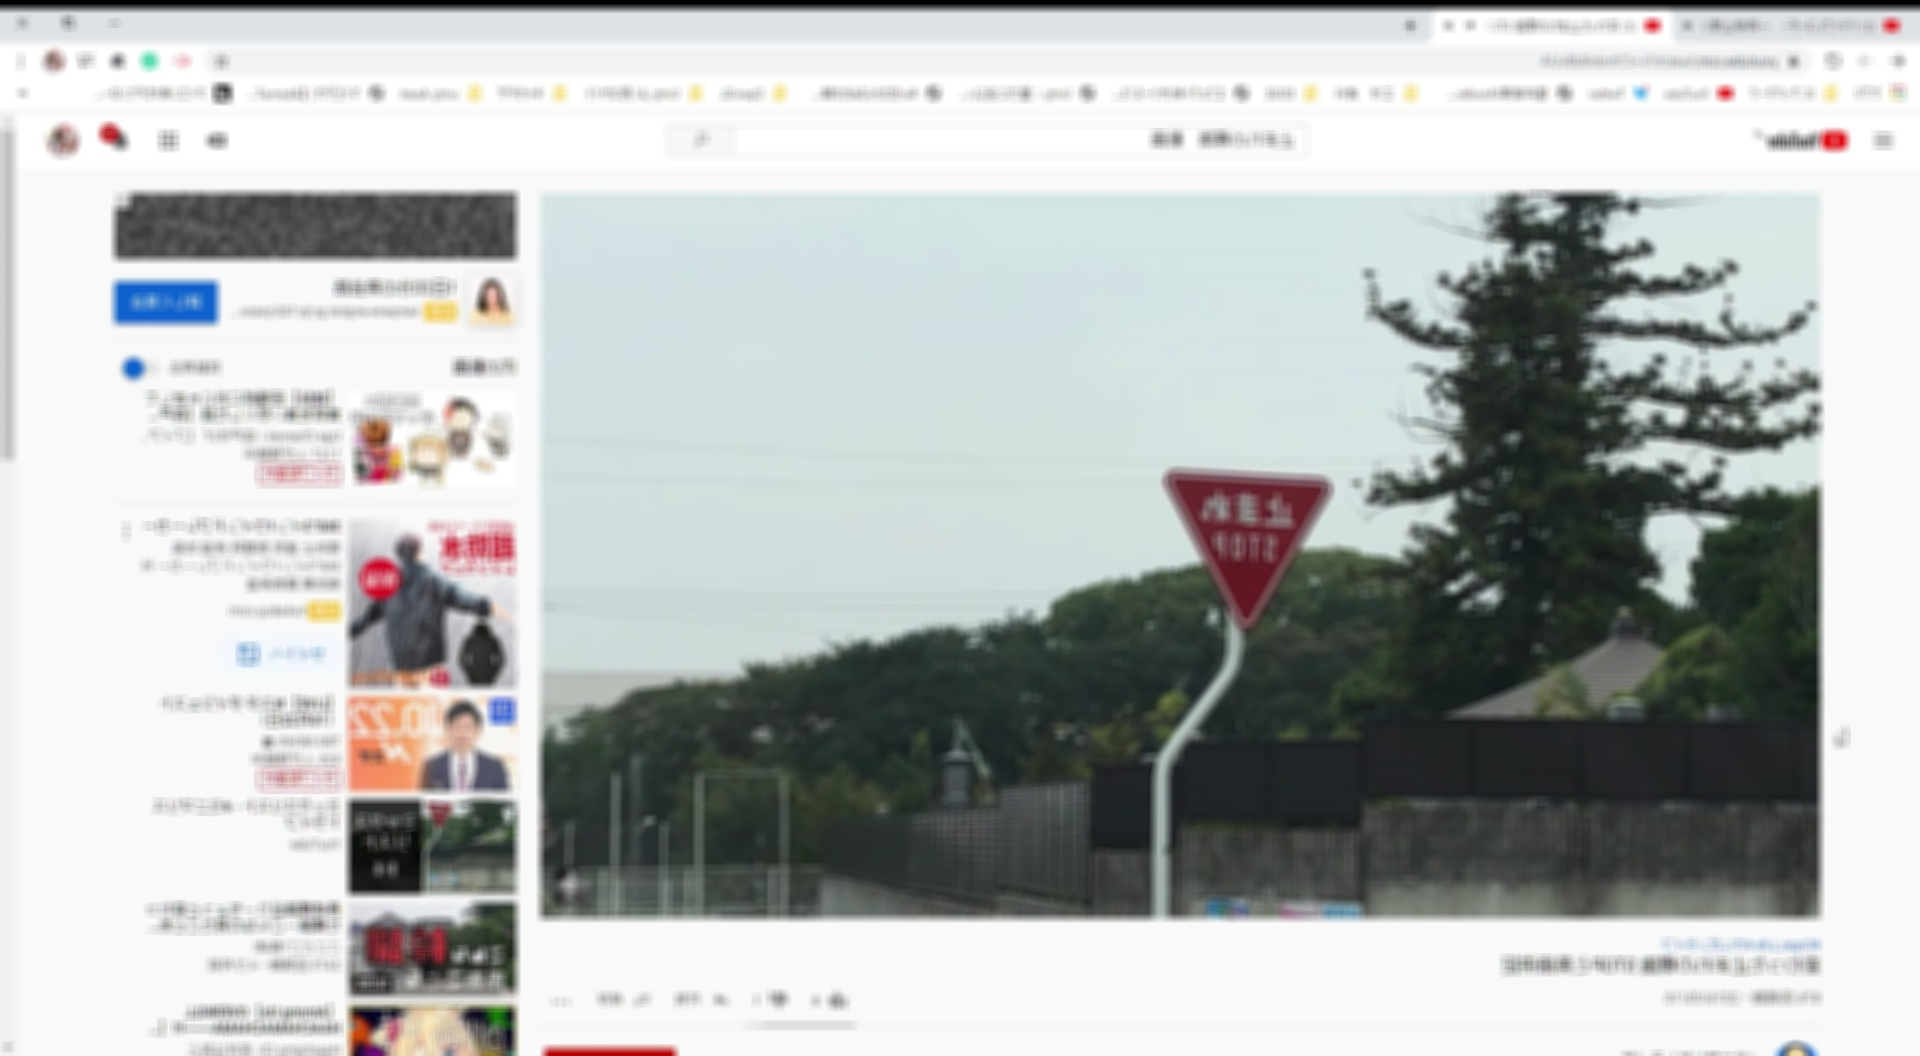Regulatory_sign_triangle: (1154, 453, 1352, 635)
